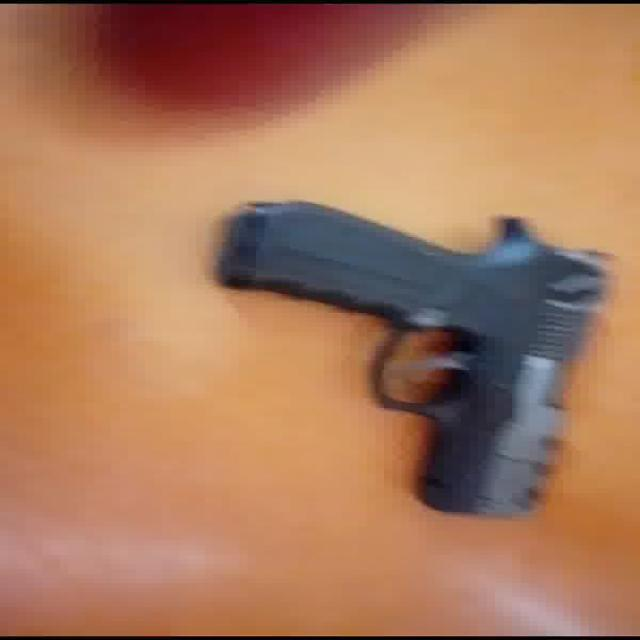weapon: (214, 198, 616, 516)
